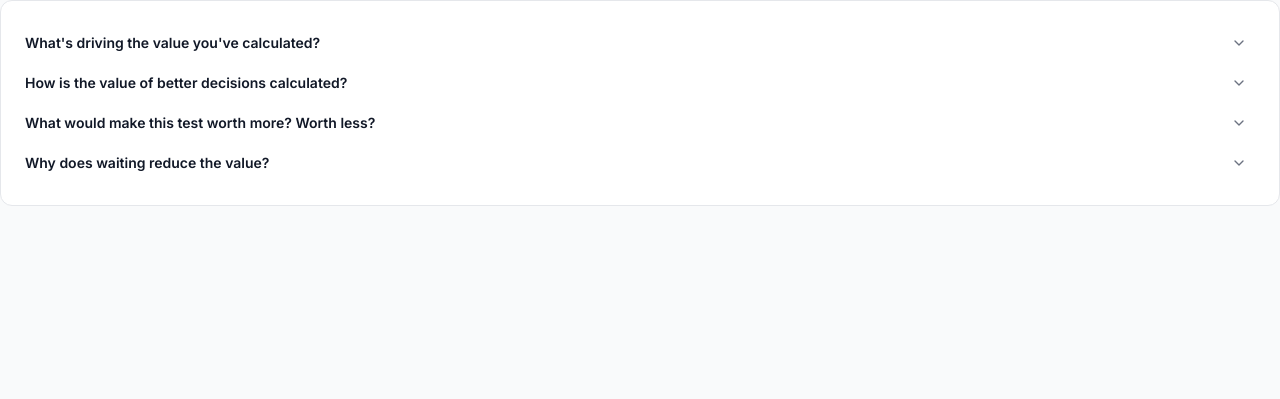
Test: FAQAccordion › Test 8: Accordion 1 answer contains traffic and valuePerConversion values
Click the button "What's driving the value you've calculated?" at (173, 42), box [21,25,1251,61]
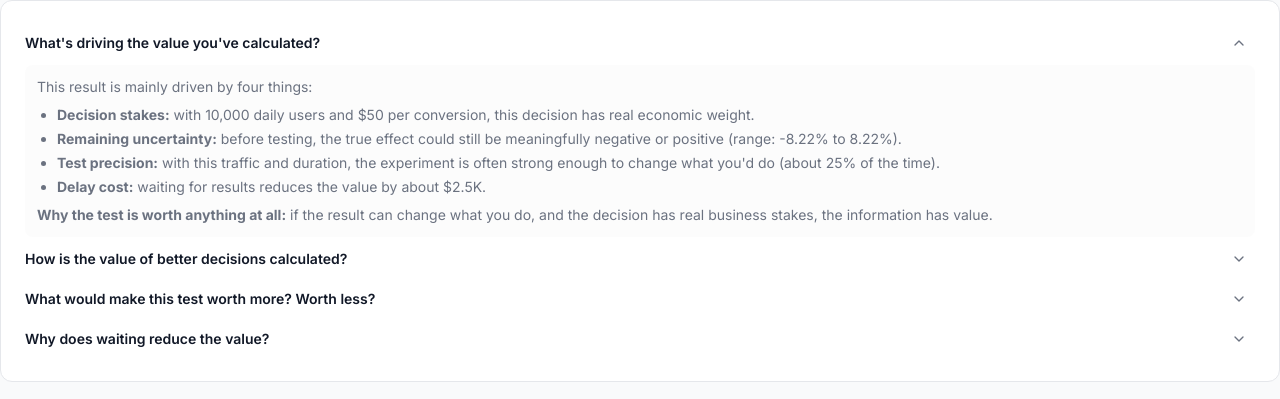
Now the list item "10,000" is shown, box [205,106,250,123]
Now the list item "$50" is shown, box [358,106,384,123]
